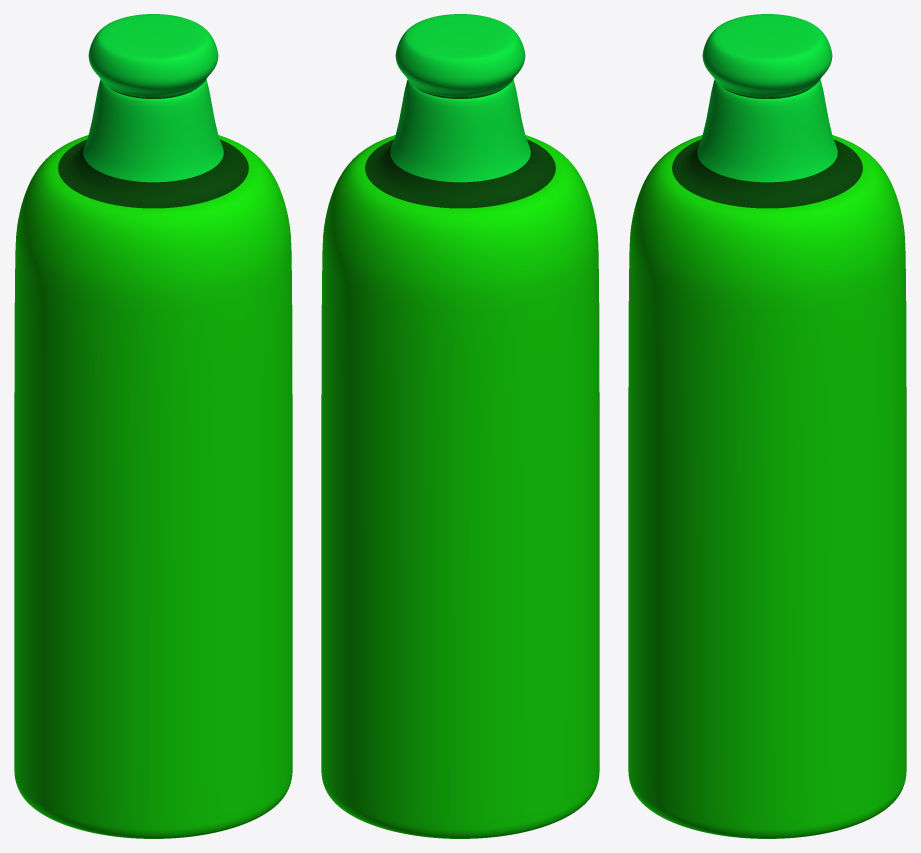
Rendered from GreenShampoo.fbx.
The picture shows the model from 3 angles, left to right: view 1: azimuth 30°, elevation 25°; view 2: azimuth 150°, elevation 25°; view 3: azimuth 270°, elevation 25°; orthographic projection.
Parts seen in each view (by area): view 1: Cylinder; view 2: Cylinder; view 3: Cylinder.
Part boxes in pixels (x1=…): Cylinder: x1=14, y1=14, x2=292, y2=838; Cylinder: x1=321, y1=14, x2=599, y2=838; Cylinder: x1=628, y1=14, x2=906, y2=838.
Bounding box in the file's own units: 327 × 970 × 327.
